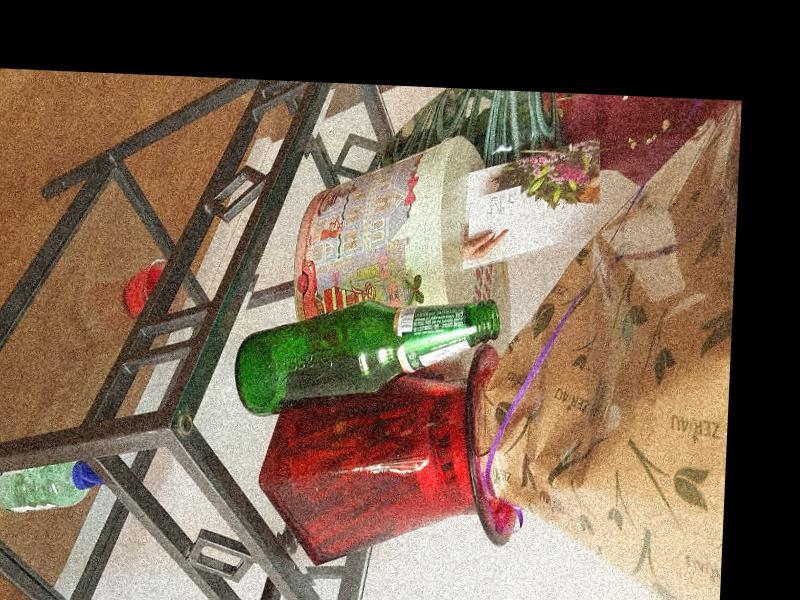Beer: (231, 291, 501, 425)
